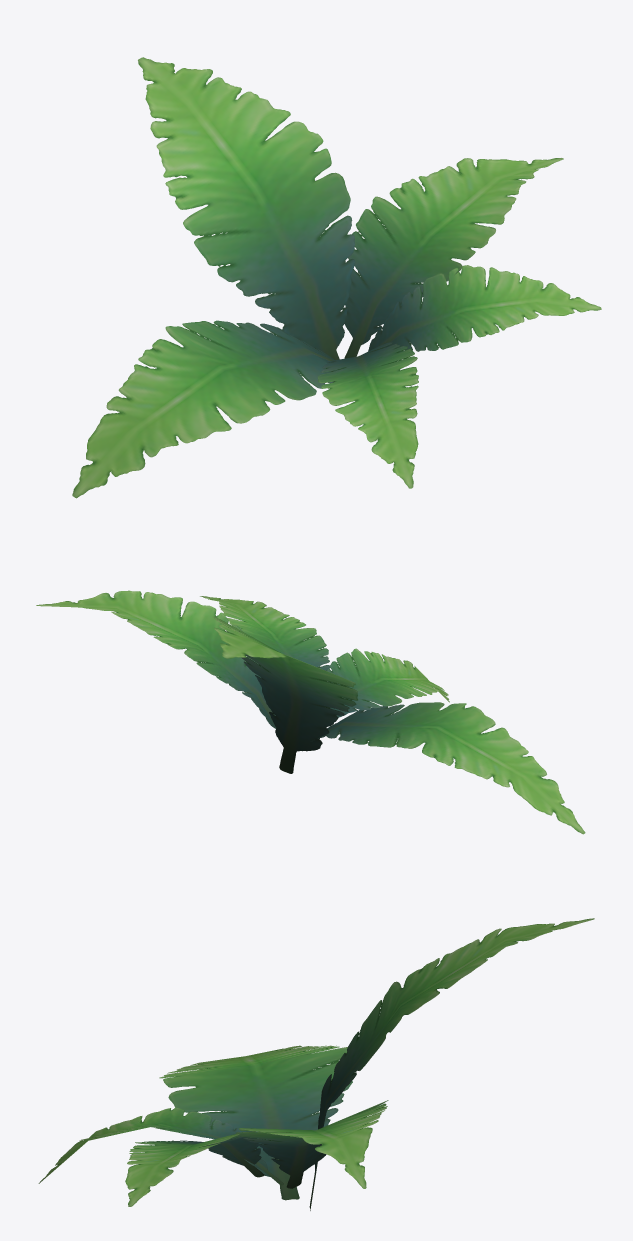
The model's file is sucai_09_09.FBX.
3 renders of one model, top to bottom at view 1: azimuth 30°, elevation 25°; view 2: azimuth 150°, elevation 25°; view 3: azimuth 270°, elevation 25°, orthographic. The views are drawn at different scales.
Parts seen in each view (by area): view 1: sucai_09; view 2: sucai_09; view 3: sucai_09.
Boxes of the visible parts, x1,y1,x2,y2 form: sucai_09: (72, 57, 601, 498); sucai_09: (36, 590, 585, 834); sucai_09: (38, 918, 594, 1210).
Bounding box in the file's own units: 191 × 94.13 × 160.
